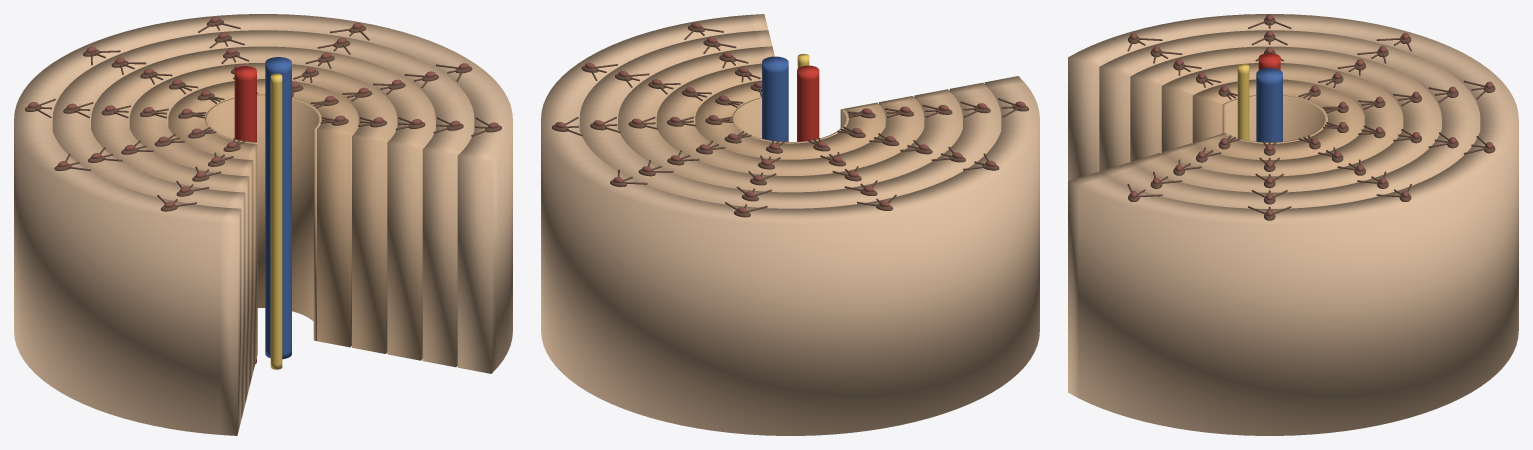
File: humerus-study-v1-micro-ultra.glb
3 views of the same model, side by side, from view 1: azimuth 30°, elevation 25°; view 2: azimuth 150°, elevation 25°; view 3: azimuth 270°, elevation 25° (orthographic).
Parts seen in each view (by area): view 1: study-lamellae, study-central-canal, study-vein, study-nerve, study-canaliculi, study-lacunae, study-osteocytes, study-artery; view 2: study-lamellae, study-canaliculi, study-lacunae, study-osteocytes, study-vein, study-artery, study-central-canal; view 3: study-lamellae, study-canaliculi, study-central-canal, study-lacunae, study-vein, study-osteocytes, study-nerve.
Boxes of the visible parts, x1,y1,x2,y2 form: study-lamellae: (14, 14, 512, 435); study-central-canal: (205, 94, 321, 354); study-vein: (265, 57, 291, 359); study-nerve: (270, 73, 282, 369); study-canaliculi: (36, 22, 488, 206); study-lacunae: (25, 19, 501, 211); study-osteocytes: (28, 16, 498, 207); study-artery: (234, 66, 256, 363); study-lamellae: (541, 14, 1039, 435); study-canaliculi: (565, 28, 1018, 211); study-lacunae: (552, 25, 1028, 217); study-osteocytes: (555, 22, 1025, 213); study-vein: (762, 56, 788, 141); study-artery: (797, 65, 819, 141); study-central-canal: (732, 97, 848, 143); study-lamellae: (1068, 14, 1518, 435); study-canaliculi: (1127, 20, 1486, 213); study-central-canal: (1222, 95, 1327, 143); study-lacunae: (1128, 17, 1495, 220); study-vein: (1256, 68, 1282, 142); study-osteocytes: (1130, 14, 1493, 216); study-nerve: (1237, 64, 1249, 140).
Size of the model in its own units: 8.53 by 5.5 by 7.72.
